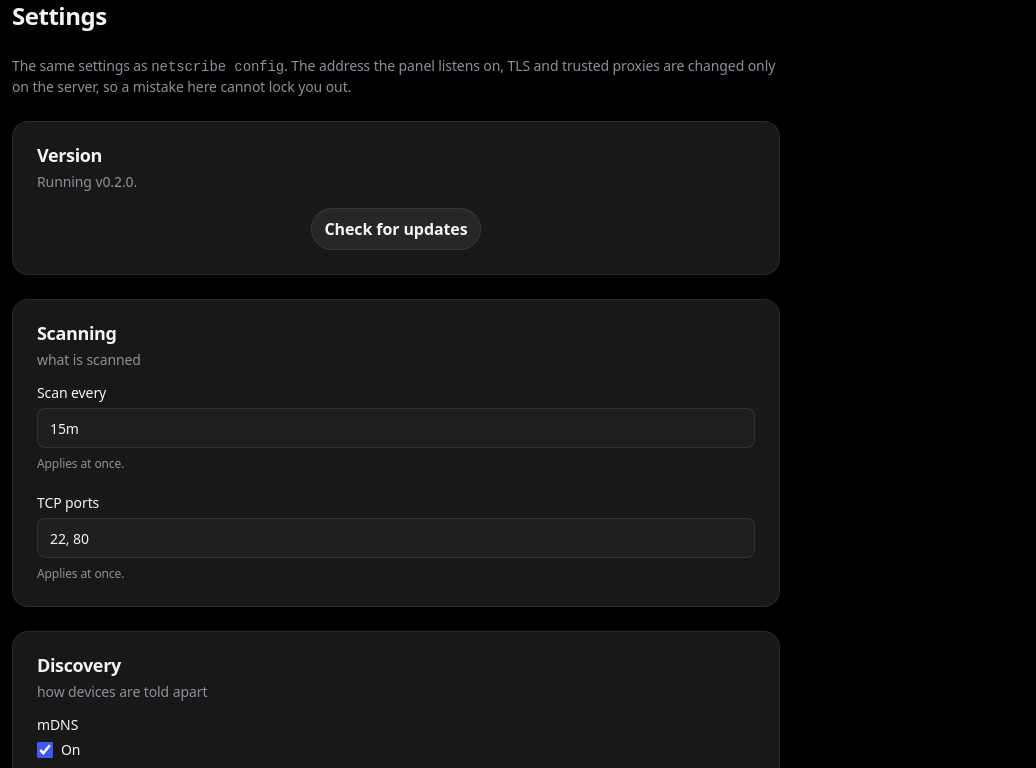
Test: Settings › sends only what was changed, in the shape the server expects
Type "30m" into the field labelled "Scan every" at (396, 428), box [37,408,755,448]
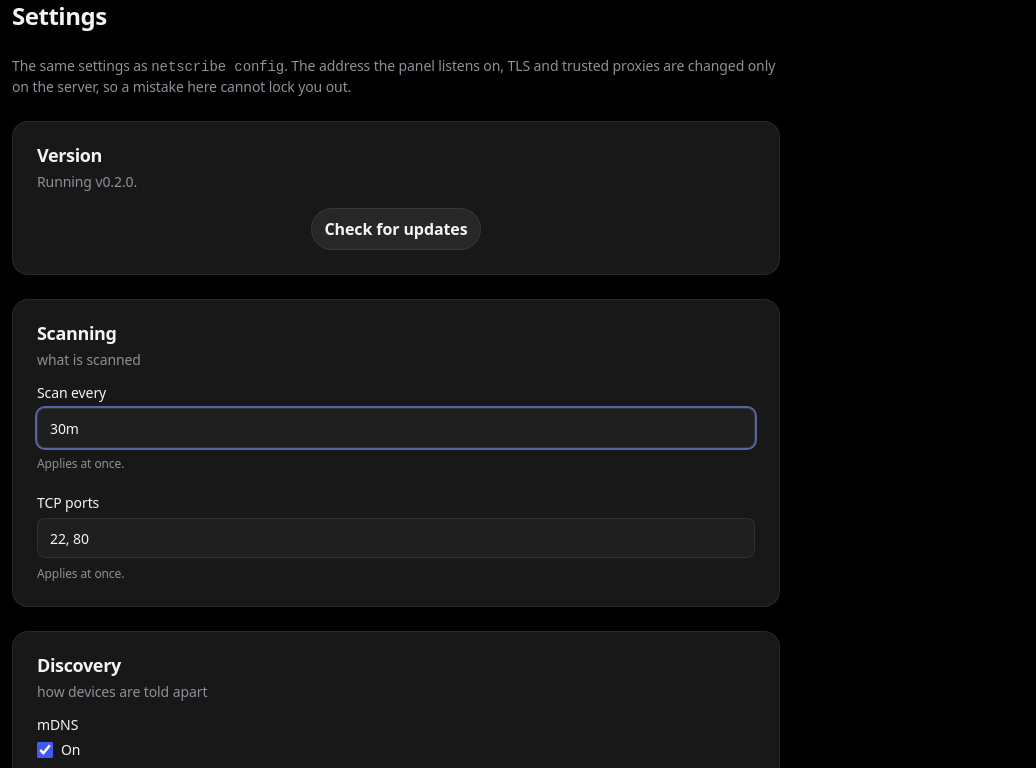
Replace the text in the field labelled "TCP ports" with "22, 443 8080" at (396, 538), box [37,518,755,558]
(page scrolled)
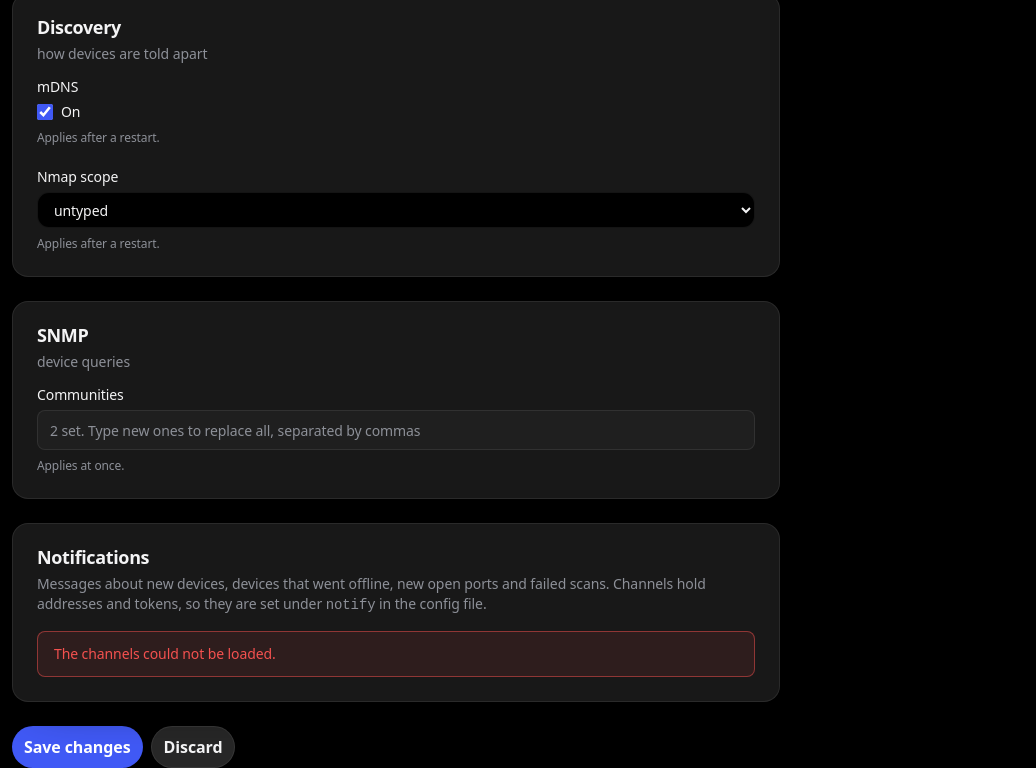
Click the button "Save changes" at (77, 747), box [12,726,142,767]
(page scrolled)
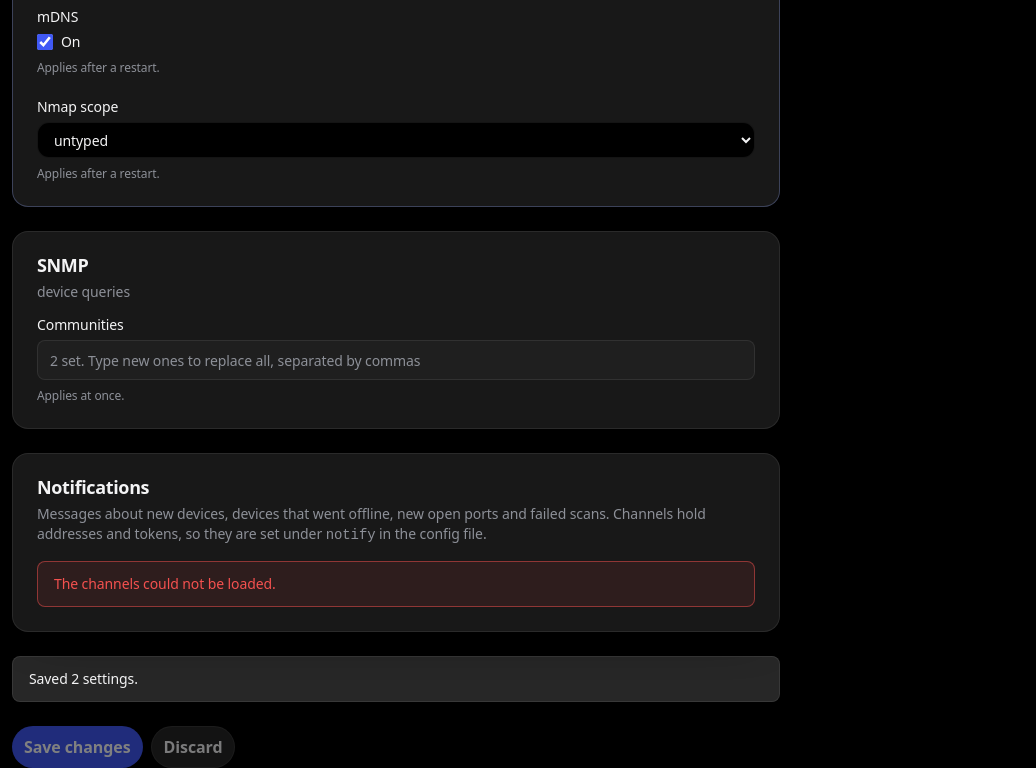
Check: the text "Saved 2 settings." is shown, box [12,656,780,702]
